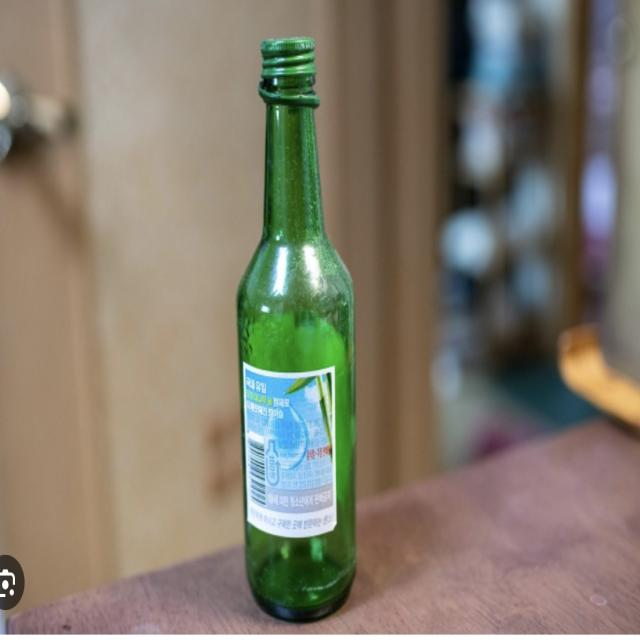recyclable: (229, 13, 370, 633)
